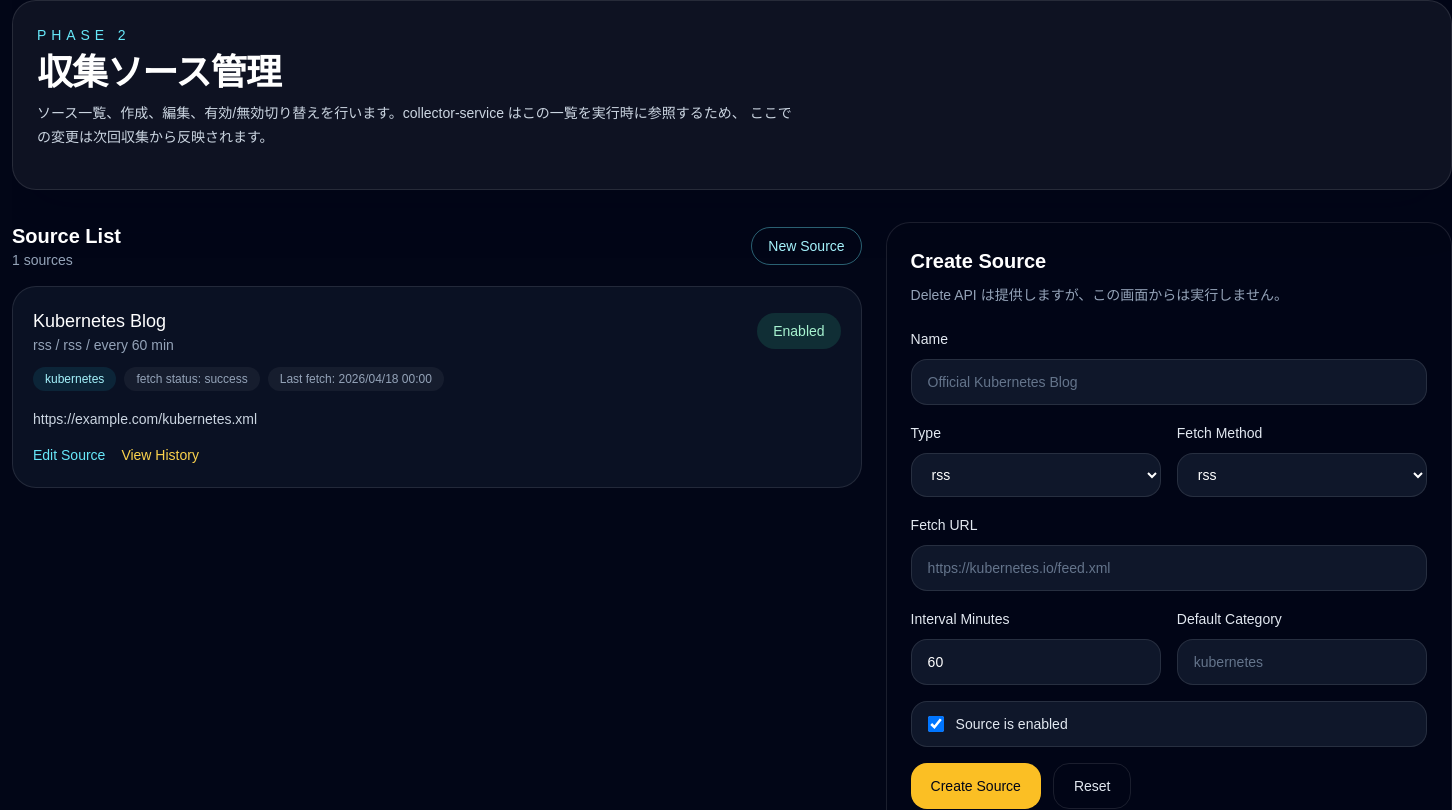
Test: SourceManagementPage › populates the edit form from the selected source and resets to create mode
Expected: the heading "Kubernetes Blog" is shown, x1=33 y1=307 x2=174 y2=335
Click the button "Edit Source".
click(69, 455)  # box x1=33 y1=445 x2=105 y2=465
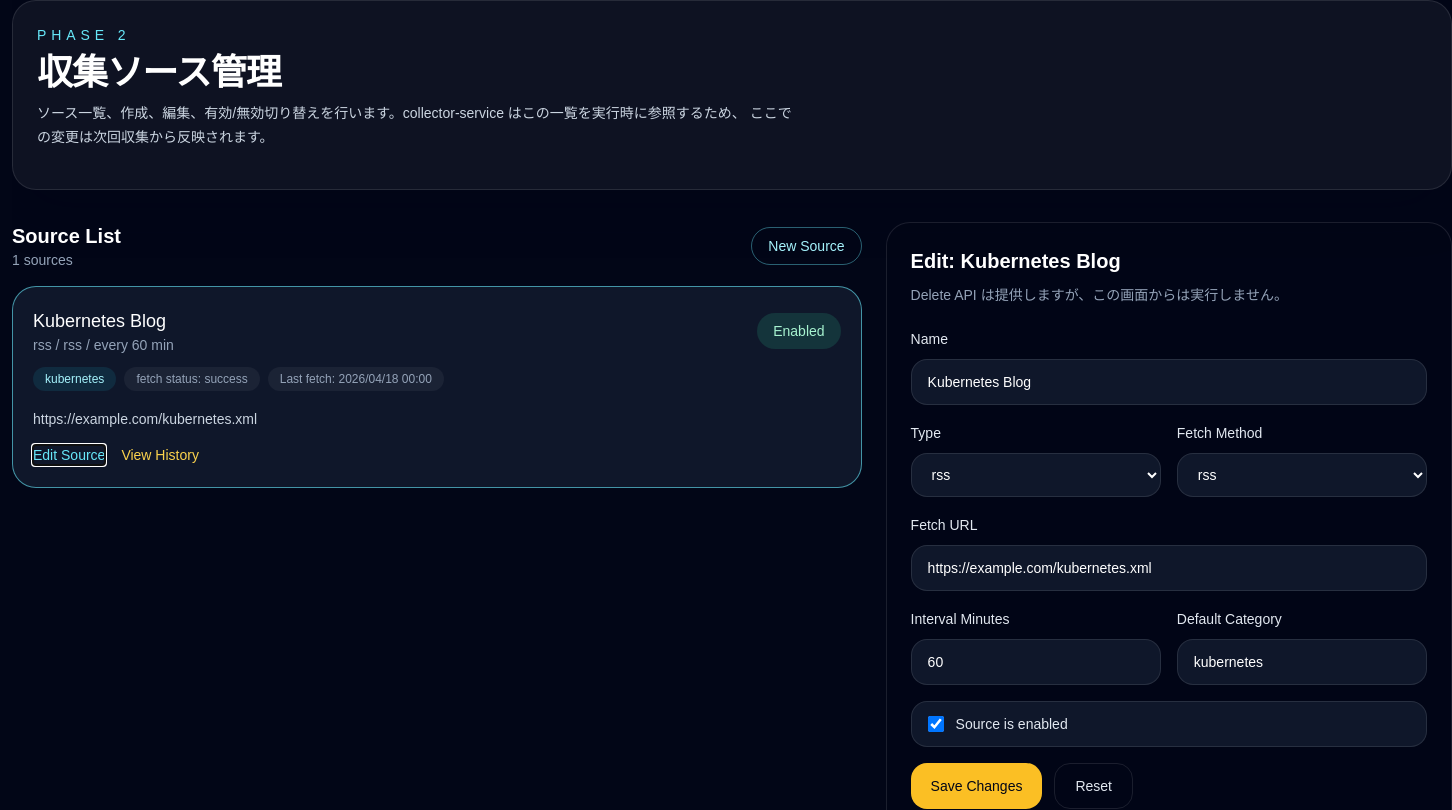
Now the heading "Edit: Kubernetes Blog" is shown, box x1=911 y1=250 x2=1121 y2=272
Now the field labelled "Name" holds "Kubernetes Blog", box x1=911 y1=359 x2=1427 y2=405
Now the field labelled "Fetch URL" holds "https://example.com/kubernetes.xml", box x1=911 y1=545 x2=1427 y2=591
Click the button "Reset".
click(1094, 786)  # box x1=1054 y1=763 x2=1133 y2=809
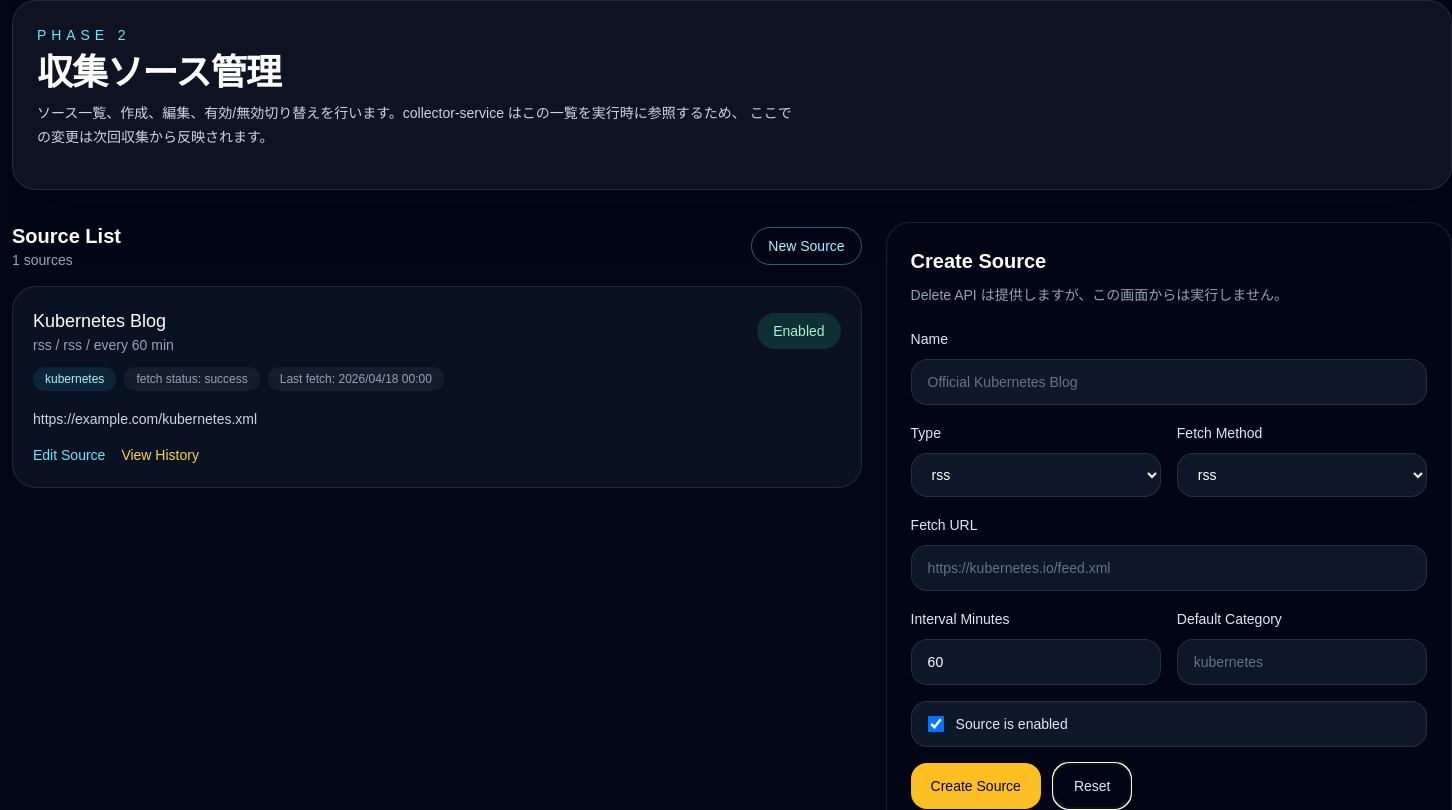
Now the heading "Create Source" is shown, box x1=911 y1=250 x2=1046 y2=272
Now the field labelled "Name" is empty, box x1=911 y1=359 x2=1427 y2=405
Click the button "Edit Source".
click(69, 455)  # box x1=33 y1=445 x2=105 y2=465
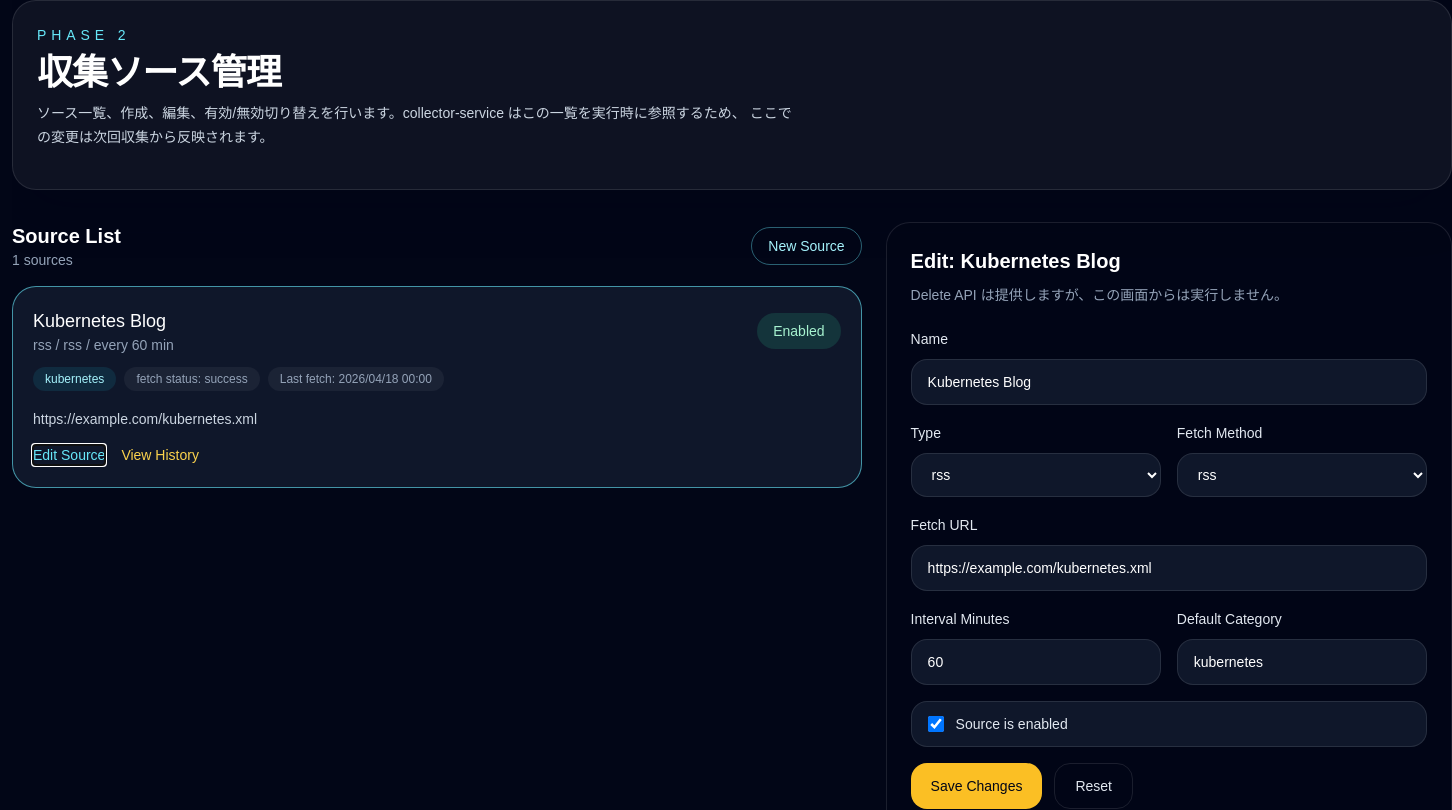
Click the button "New Source".
click(806, 246)  # box x1=751 y1=227 x2=862 y2=265
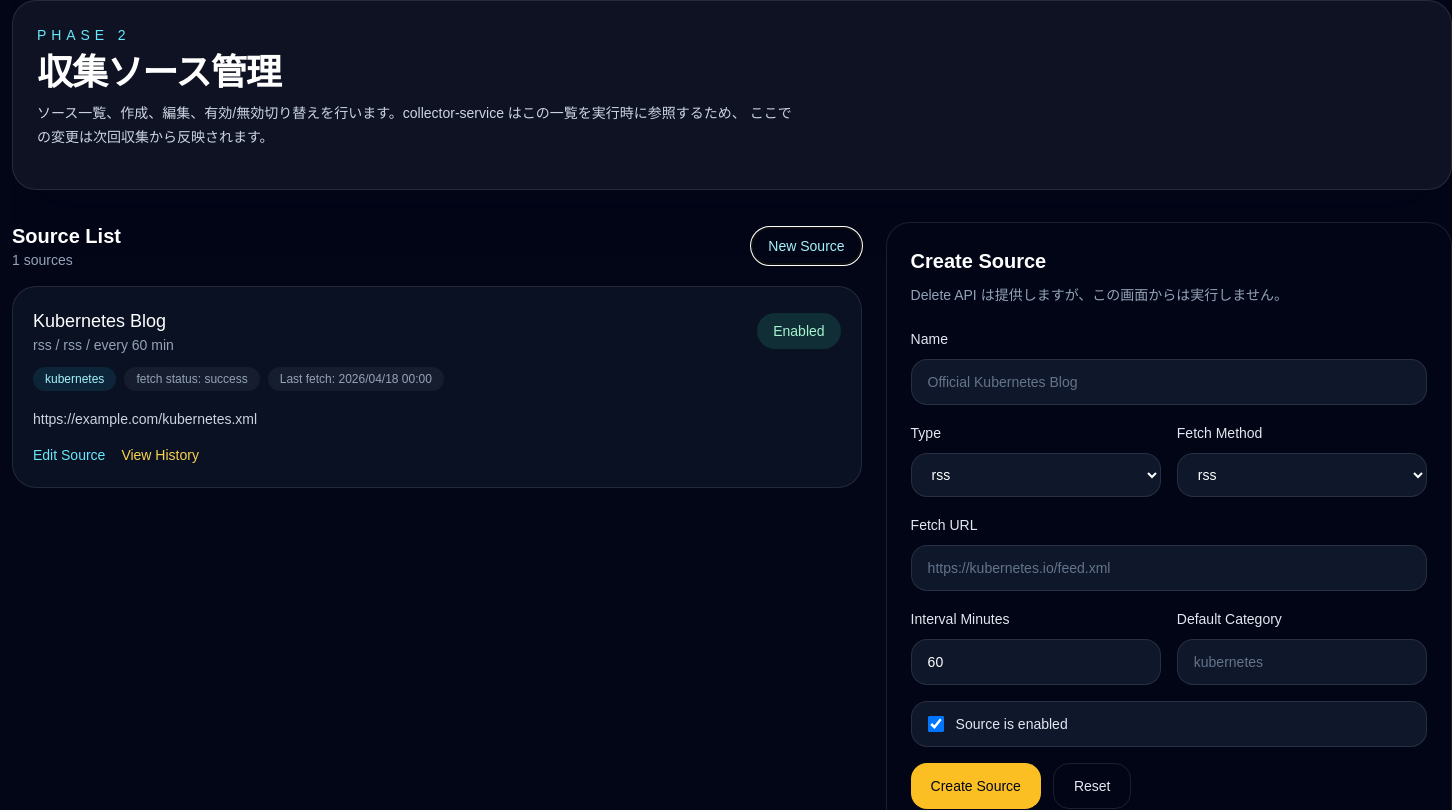
Now the heading "Create Source" is shown, box x1=911 y1=250 x2=1046 y2=272
Now the field labelled "Name" is empty, box x1=911 y1=359 x2=1427 y2=405
